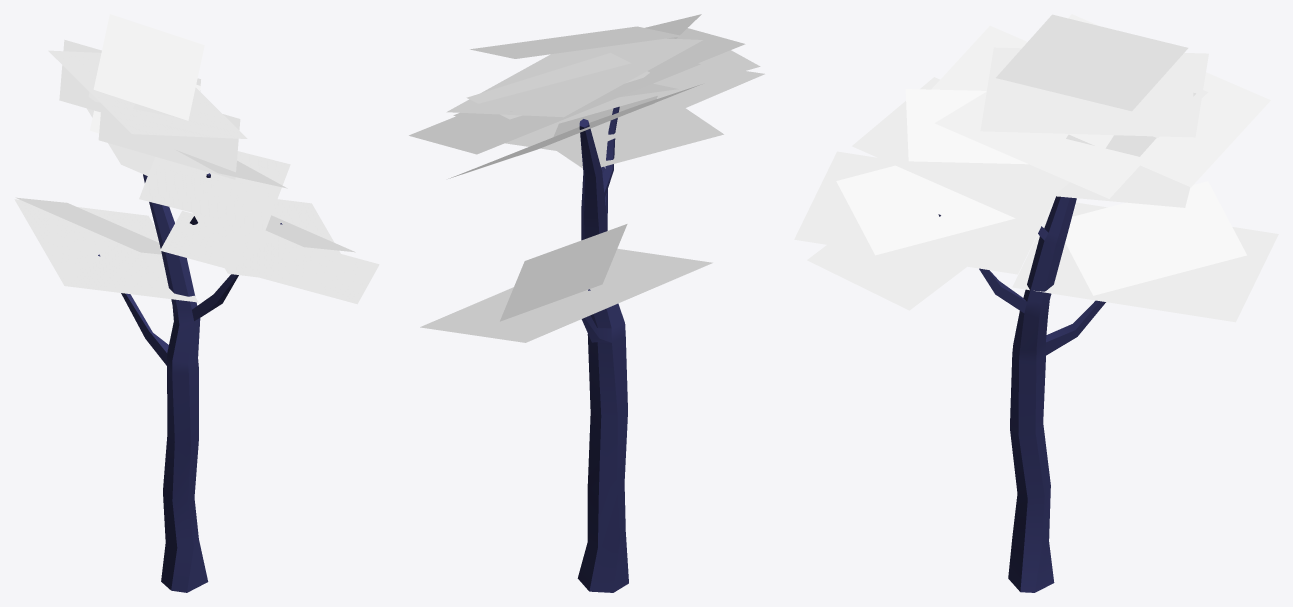
File: tree.fbx
3 views of the same model, side by side, from view 1: azimuth 30°, elevation 25°; view 2: azimuth 150°, elevation 25°; view 3: azimuth 270°, elevation 25° (orthographic). The views are drawn at different scales.
Visible parts, largest first — view 1: leaves2, polySurface29; view 2: leaves2, polySurface29; view 3: leaves2, polySurface29.
Part boxes in pixels (<box>): leaves2: <box>14,14,379,304</box>; polySurface29: <box>98,173,282,592</box>; leaves2: <box>409,14,764,342</box>; polySurface29: <box>577,106,628,592</box>; leaves2: <box>794,14,1278,322</box>; polySurface29: <box>938,196,1105,592</box>.
Size of the model in its own units: 5.53 by 11.06 by 9.07.
